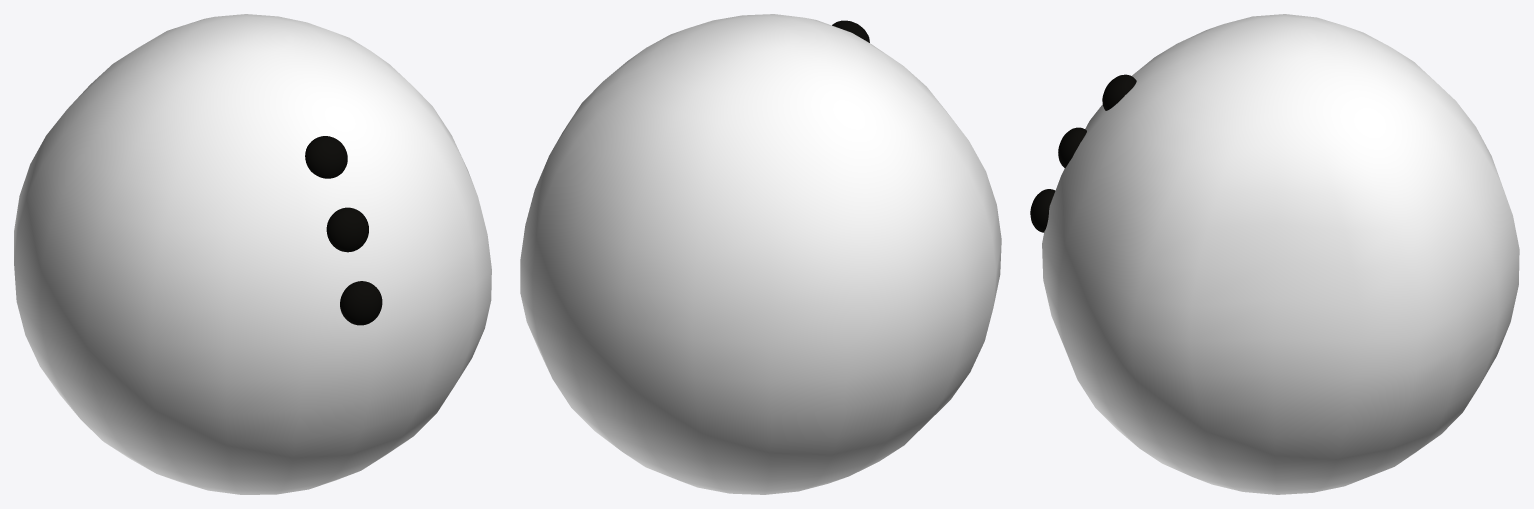
File: MUNECO1.obj
3 renders of one model, left to right at view 1: azimuth 30°, elevation 25°; view 2: azimuth 150°, elevation 25°; view 3: azimuth 270°, elevation 25°, orthographic.
Parts seen in each view (by area): view 1: polySurface18 MUNECO1:pSphere21; view 2: polySurface18 MUNECO1:pSphere21; view 3: polySurface18 MUNECO1:pSphere21.
Part boxes in pixels (<box>): polySurface18 MUNECO1:pSphere21: <box>14,14,491,494</box>; polySurface18 MUNECO1:pSphere21: <box>520,14,1001,494</box>; polySurface18 MUNECO1:pSphere21: <box>1030,14,1519,494</box>.
Size of the model in its own units: 6.38 by 6.49 by 6.67.
